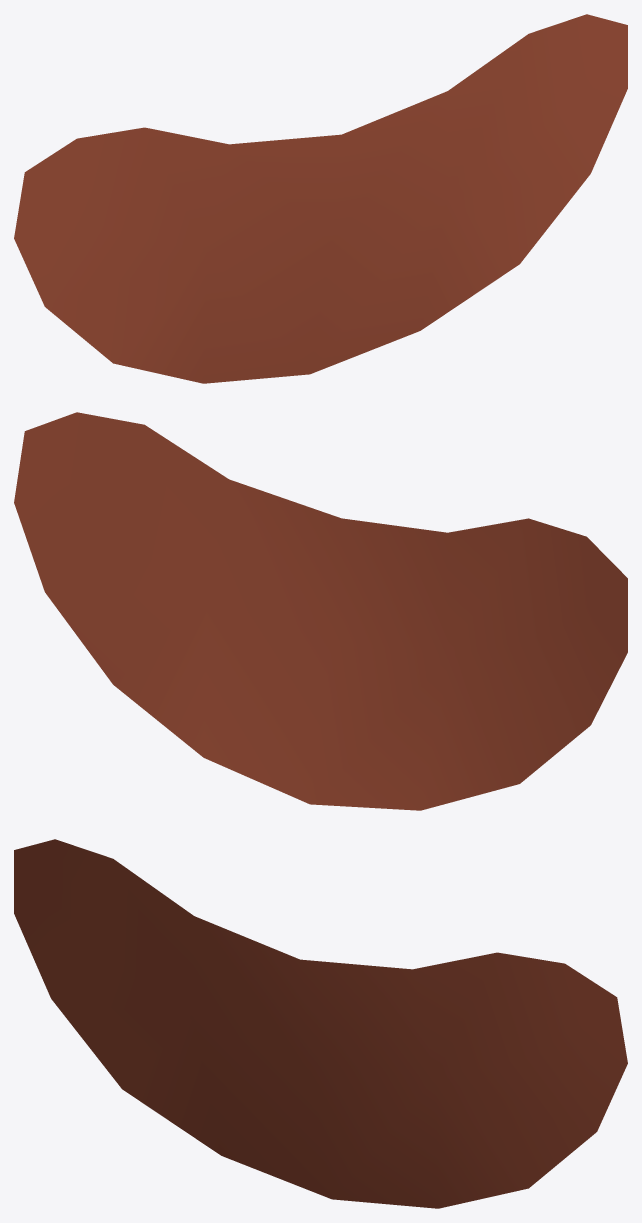
The model's file is lips_6.fbx.
The picture shows the model from 3 angles, top to bottom: view 1: azimuth 30°, elevation 25°; view 2: azimuth 150°, elevation 25°; view 3: azimuth 330°, elevation 25°; orthographic projection.
Visible parts, largest first — view 1: lips_6; view 2: lips_6; view 3: lips_6.
Boxes of the visible parts, <box> form: lips_6: <box>14,14,627,383</box>; lips_6: <box>14,412,627,810</box>; lips_6: <box>14,839,627,1208</box>.
Bounding box in the file's own units: 7.46 × 3.64 × 0.6651.
